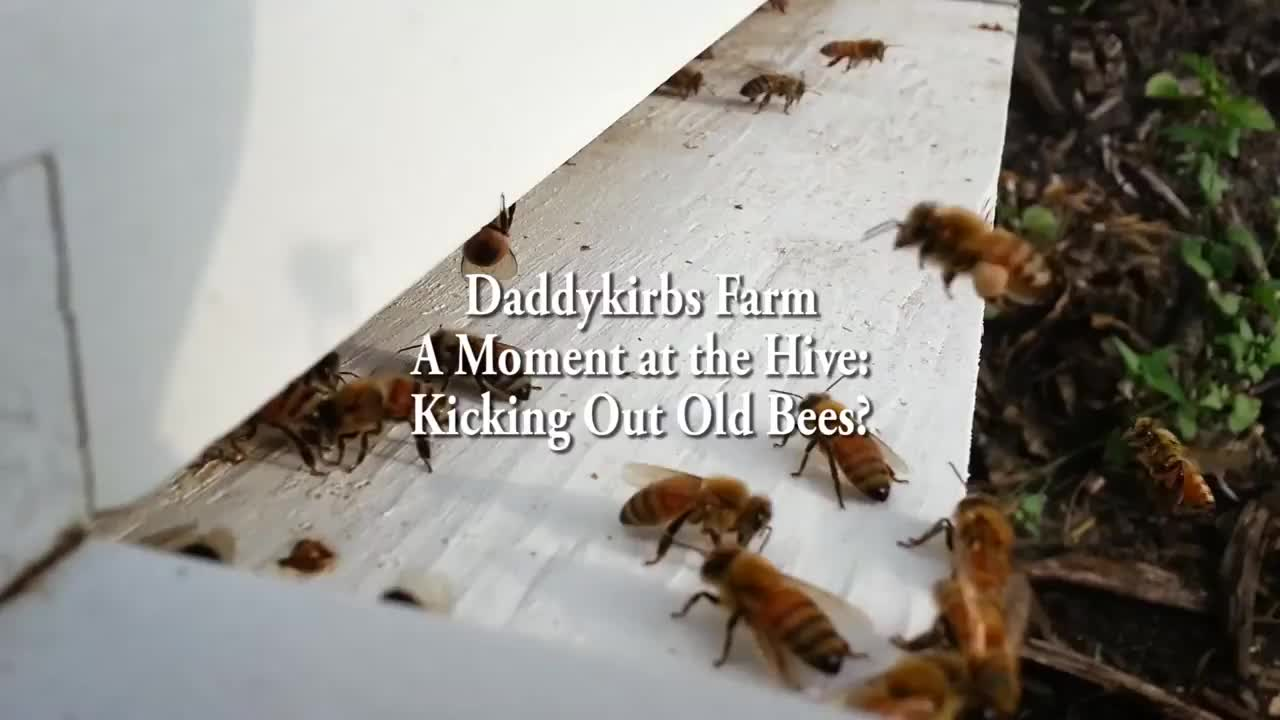pollen: (869, 192, 1054, 312)
